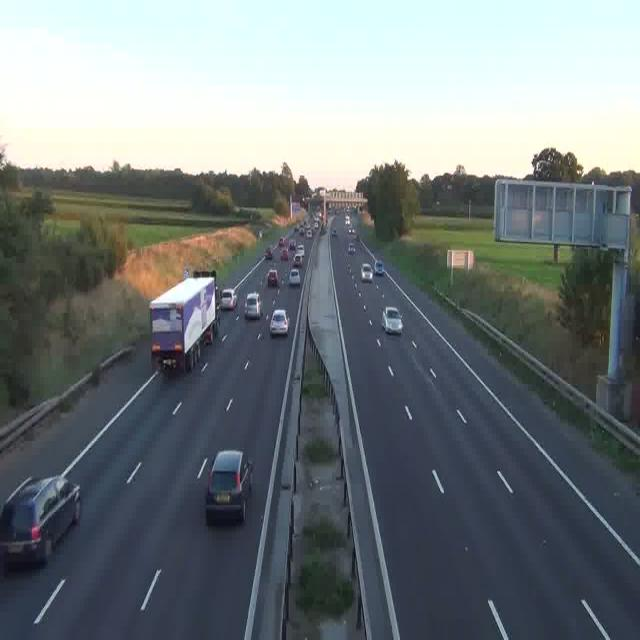car: (0, 477, 80, 568), (205, 450, 253, 524), (382, 306, 402, 333), (269, 309, 289, 336), (244, 293, 262, 319), (220, 288, 238, 309), (361, 263, 373, 282), (267, 269, 279, 287), (287, 268, 299, 286), (374, 260, 385, 276), (294, 250, 304, 265), (264, 246, 274, 260), (280, 248, 290, 261), (348, 243, 356, 254), (332, 226, 338, 237)
truck: (150, 274, 218, 370)
